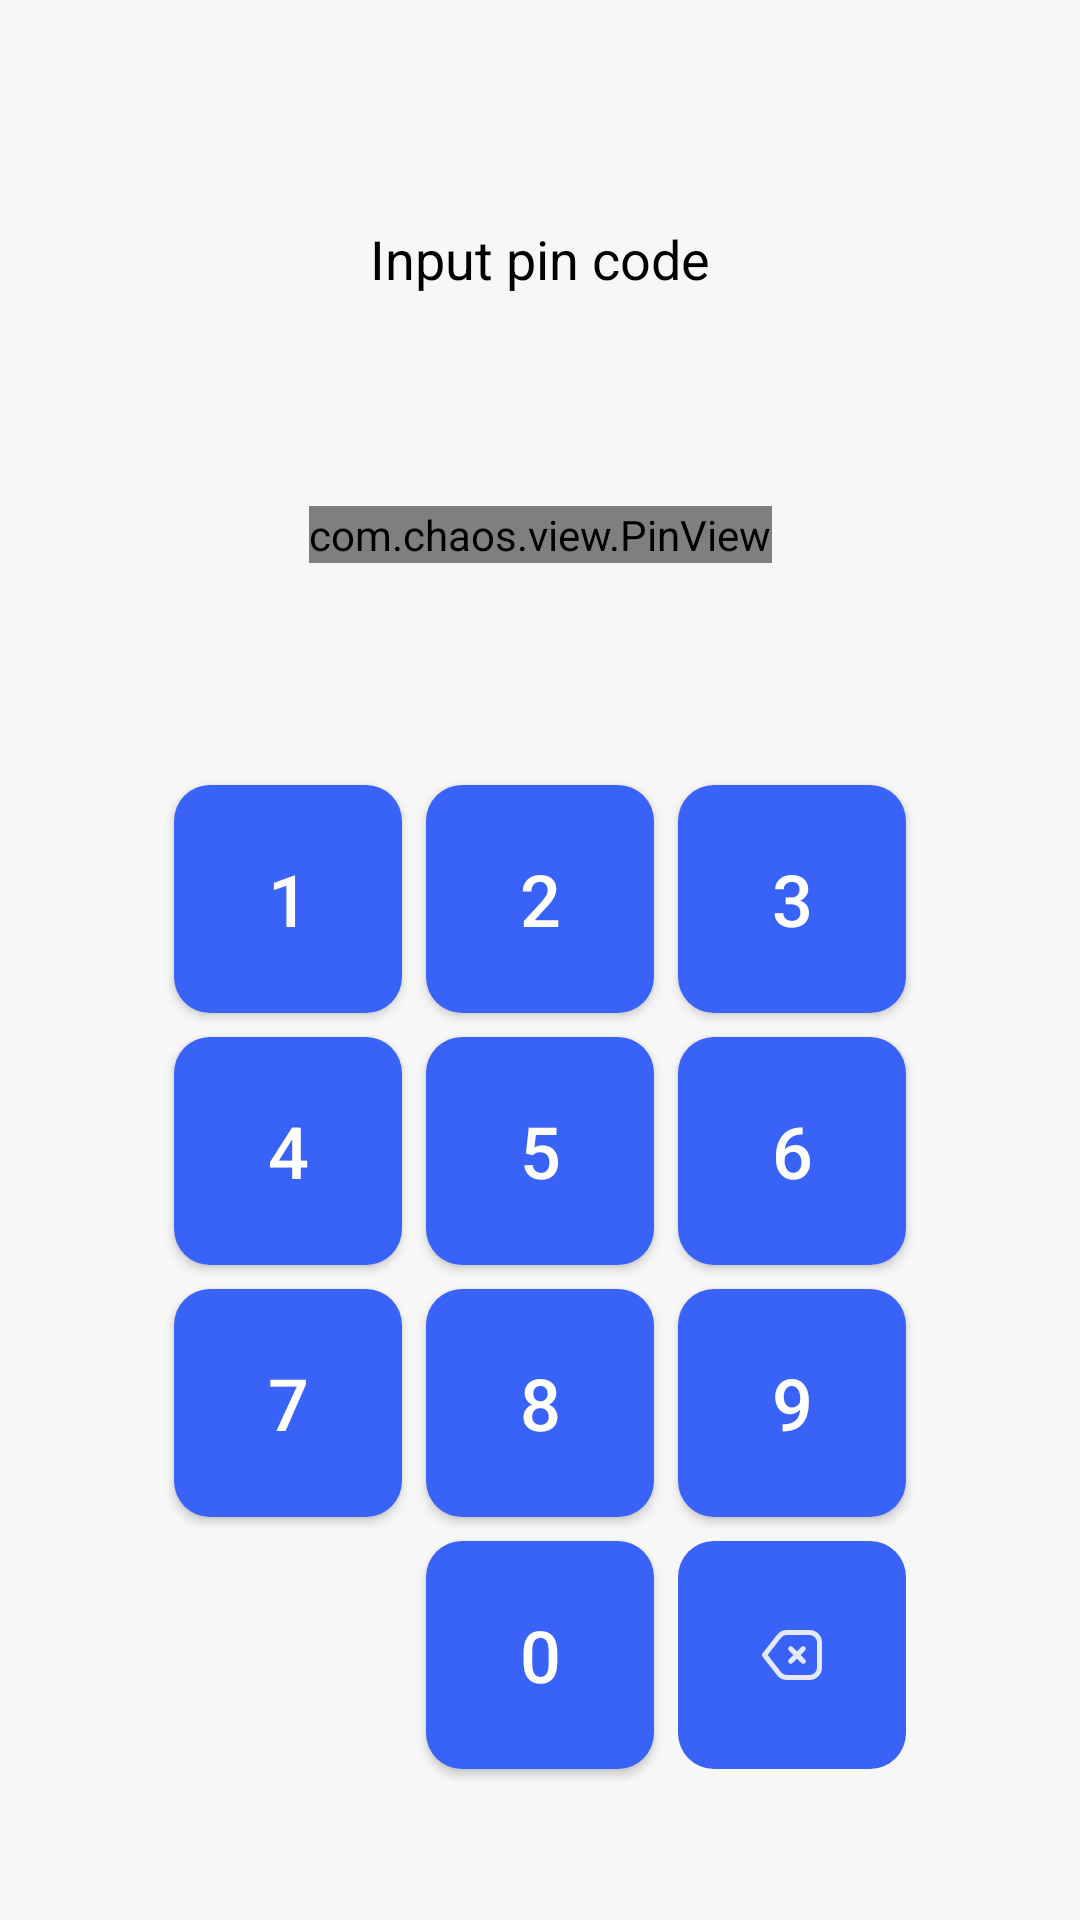

Where to tap for icons on this 1080*1920 app screen, as (x,y):
delete: (792,1655)
